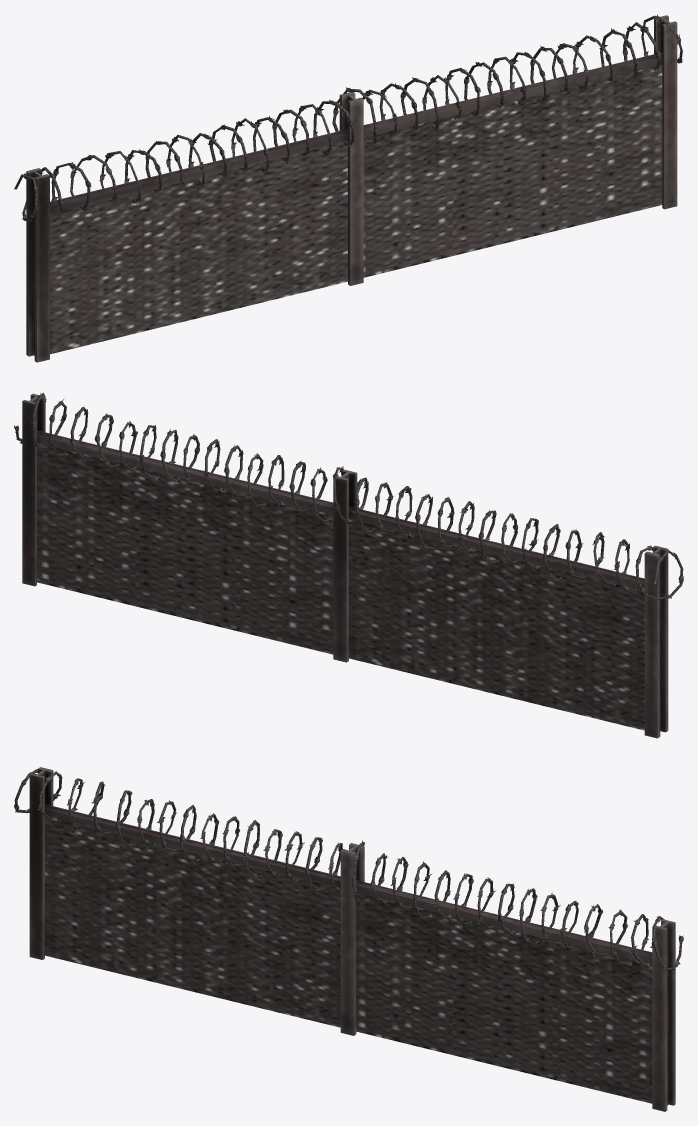
The model's file is SM_Fence_Iron_949b4d.glb.
3 renders of one model, top to bottom at view 1: azimuth 30°, elevation 25°; view 2: azimuth 150°, elevation 25°; view 3: azimuth 330°, elevation 25°, orthographic.
Size of the model in its own units: 4.11 by 1.14 by 0.3251.
1 material, 1 textured.
